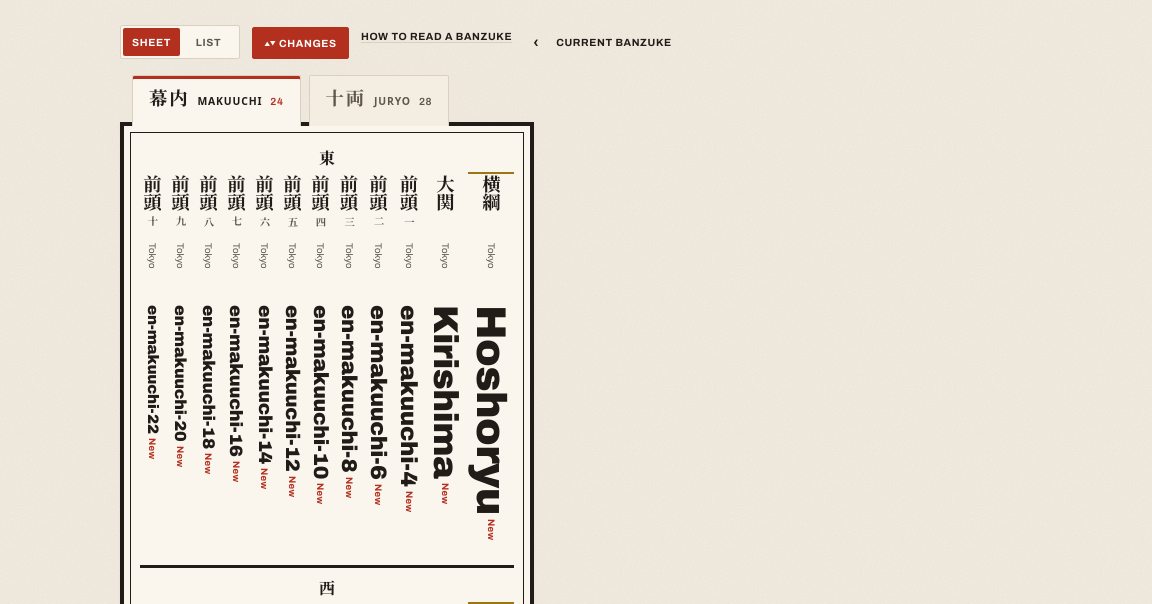
Test case: App › walks the banzuke from the dialog without growing the history
The image size is (1152, 604).
(page scrolled)
Click the button with aria-label "Hoshoryu, East": (491, 360) [468,172,514,549]
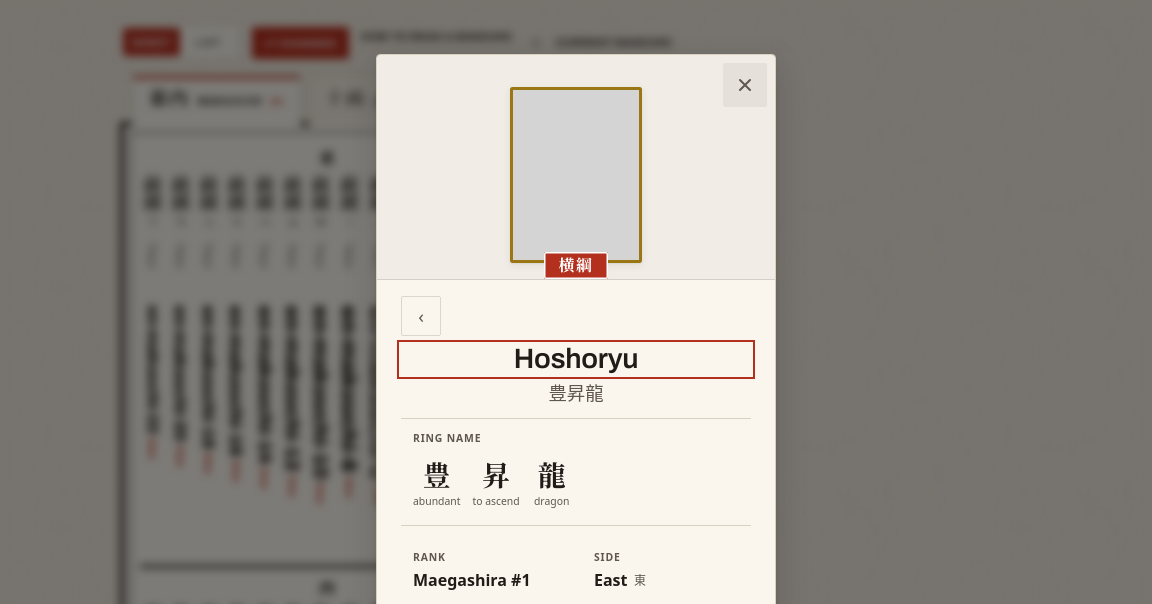
Click the button named "Next: Onosato": (421, 316) [401,296,441,336]
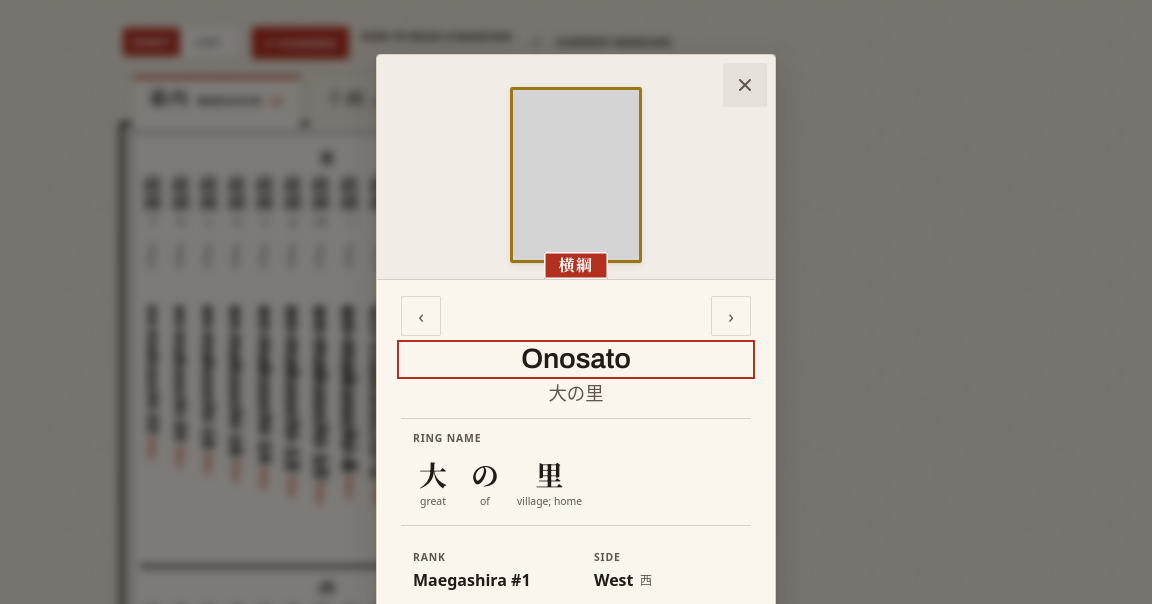
Now the button named "Previous: Hoshoryu" is shown, box [711,296,751,336]
